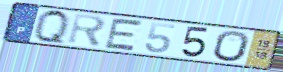5: (143, 21, 178, 54), (180, 25, 210, 58)
E: (102, 17, 146, 53)
O: (211, 30, 251, 63)
Q: (33, 8, 71, 47)
R: (65, 12, 108, 49)
